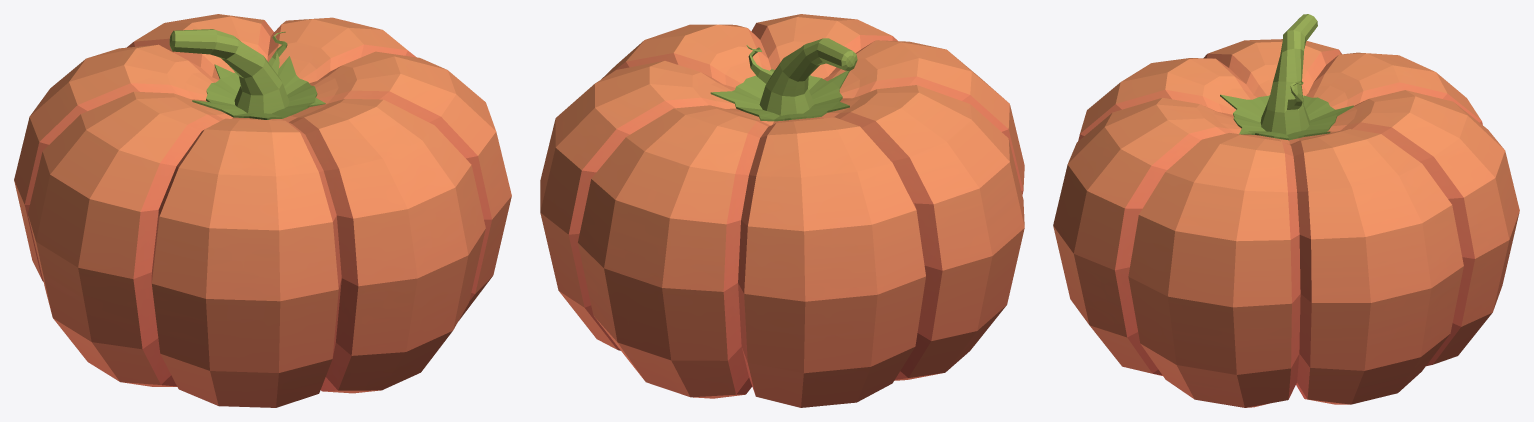
The model's file is Тыква.fbx.
3 renders of one model, left to right at view 1: azimuth 30°, elevation 25°; view 2: azimuth 150°, elevation 25°; view 3: azimuth 270°, elevation 25°, orthographic. The views are drawn at different scales.
Parts seen in each view (by area): view 1: Тыква; view 2: Тыква; view 3: Тыква.
Boxes of the visible parts, box(x1,y1,x2,y2) form: Тыква: box(14, 14, 511, 407); Тыква: box(540, 14, 1024, 407); Тыква: box(1053, 14, 1519, 407).
Bounding box in the file's own units: 20.34 × 14.67 × 20.52.
